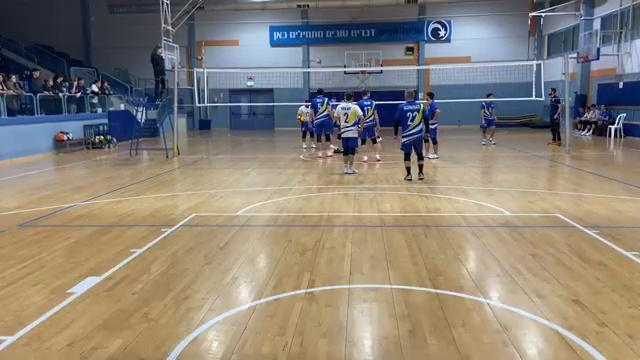ball: (295, 113, 306, 124)
